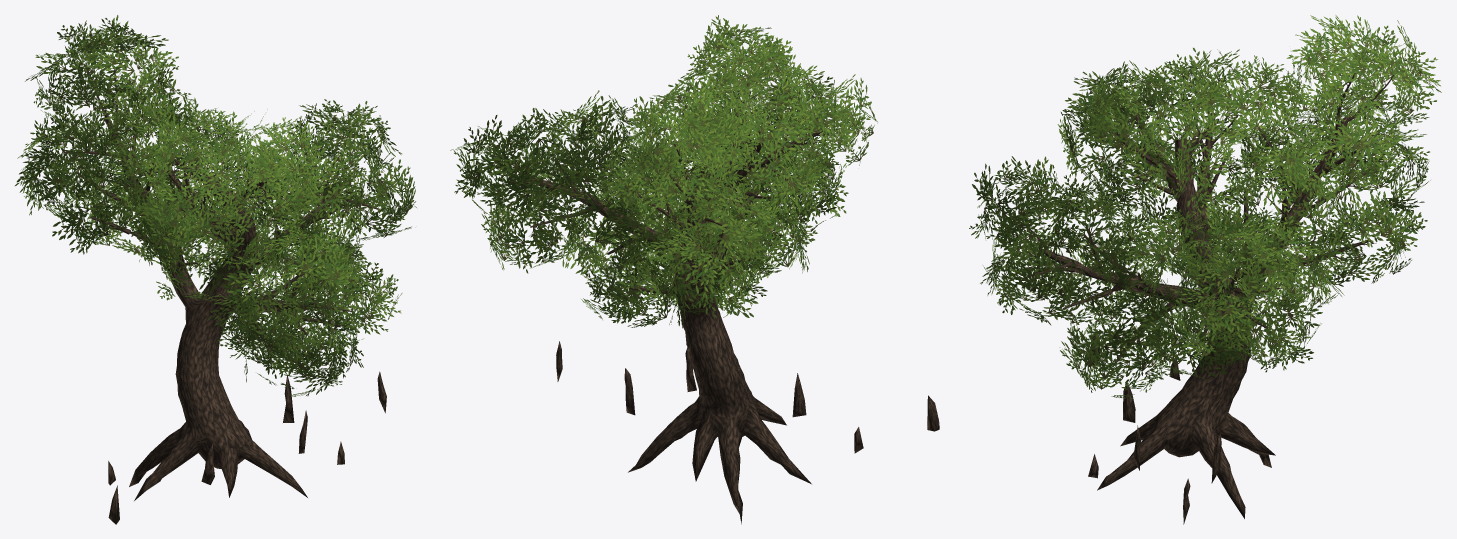
The model's file is Oak_01.glb.
3 views of the same model, side by side, from view 1: azimuth 30°, elevation 25°; view 2: azimuth 150°, elevation 25°; view 3: azimuth 270°, elevation 25° (orthographic). The views are drawn at different scales.
Visible parts, largest first — view 1: Leaves, Trunk; view 2: Leaves, Trunk; view 3: Leaves, Trunk.
Part boxes in pixels (x1,y1,x2,y2): Leaves: (15, 15, 416, 397); Trunk: (64, 63, 386, 524); Leaves: (450, 15, 877, 328); Trunk: (510, 71, 939, 524); Leaves: (969, 15, 1441, 399); Trunk: (1010, 73, 1393, 524).
Bounding box in the file's own units: 11.93 × 13.47 × 12.49.
2 materials, 2 textured.
